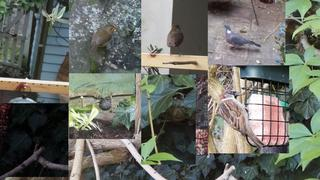robin: (89, 24, 117, 55), (167, 24, 184, 57)
sparrow: (218, 89, 265, 149), (95, 97, 111, 113)
wood pigeon: (222, 24, 261, 50)
